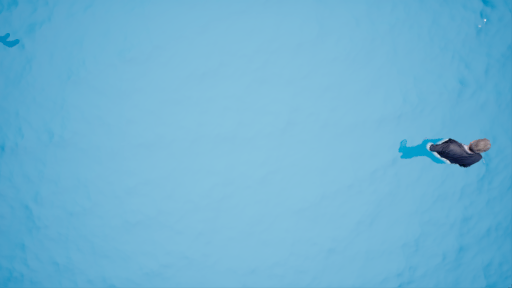person: (394, 136, 493, 169)
